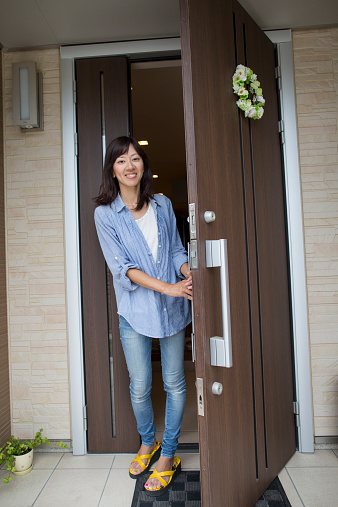em pe: (90, 130, 208, 480)
